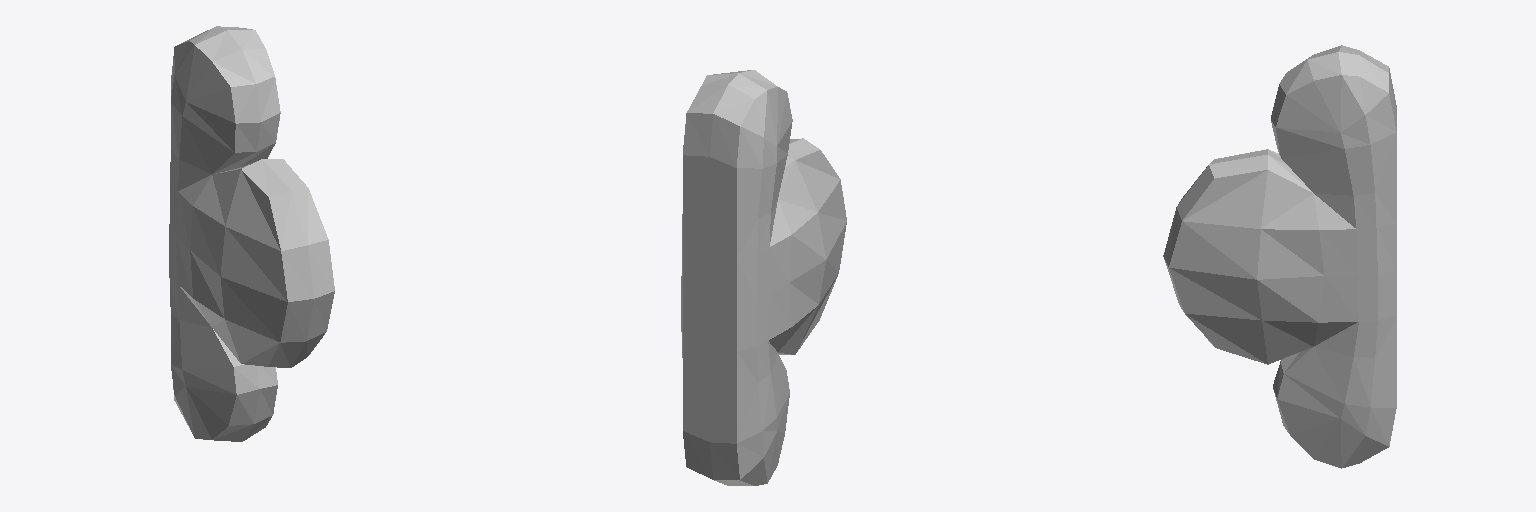
3 renders of one model, left to right at view 1: azimuth 30°, elevation 25°; view 2: azimuth 150°, elevation 25°; view 3: azimuth 270°, elevation 25°, orthographic.
Visible parts, largest first — view 1: clouds_01_Plane.003; view 2: clouds_01_Plane.003; view 3: clouds_01_Plane.003.
Part boxes in pixels (bbox=[...]): clouds_01_Plane.003: bbox=[169, 26, 334, 441]; clouds_01_Plane.003: bbox=[681, 70, 846, 485]; clouds_01_Plane.003: bbox=[1163, 45, 1396, 468].
Size of the model in its own units: 1.72 by 7.14 by 3.7.